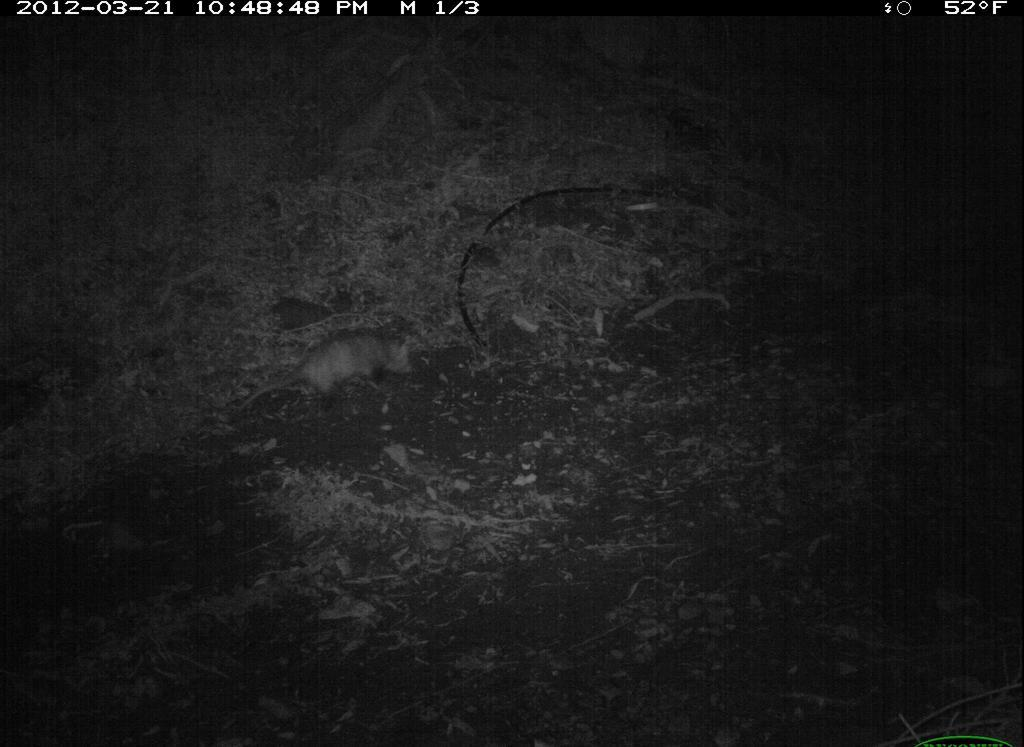opossum: (242, 321, 423, 425)
